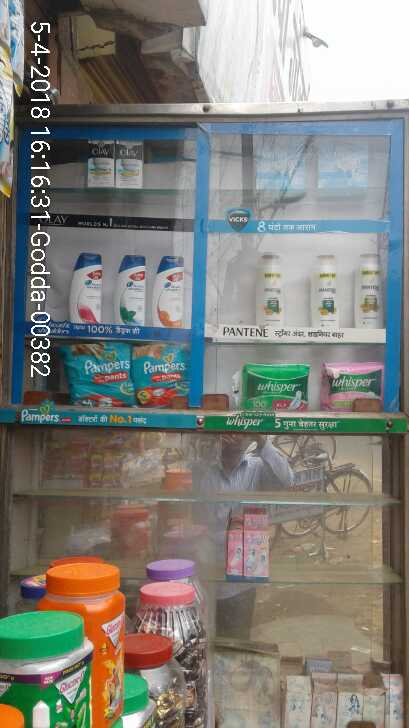venus: (252, 136, 307, 190), (318, 136, 369, 187)
